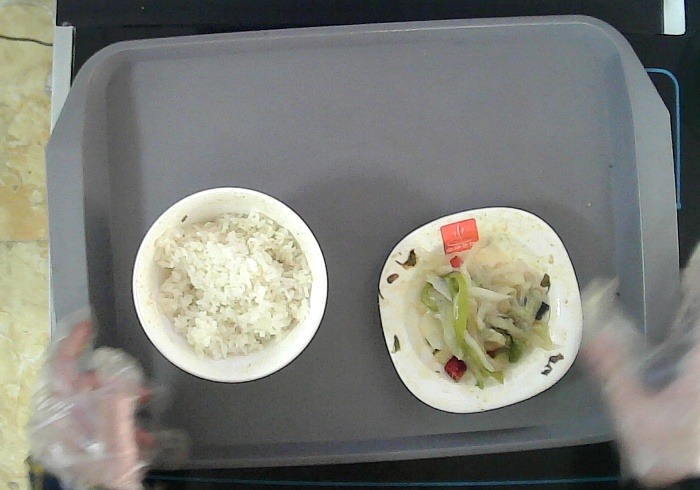SHKJ-Bai_Se_Si_Fang_Cai_Die: (375, 203, 585, 416)
SHKJ-Fan_Wan: (131, 183, 332, 383)
